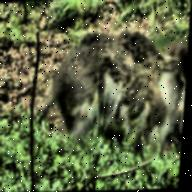boar: (35, 13, 191, 169)
